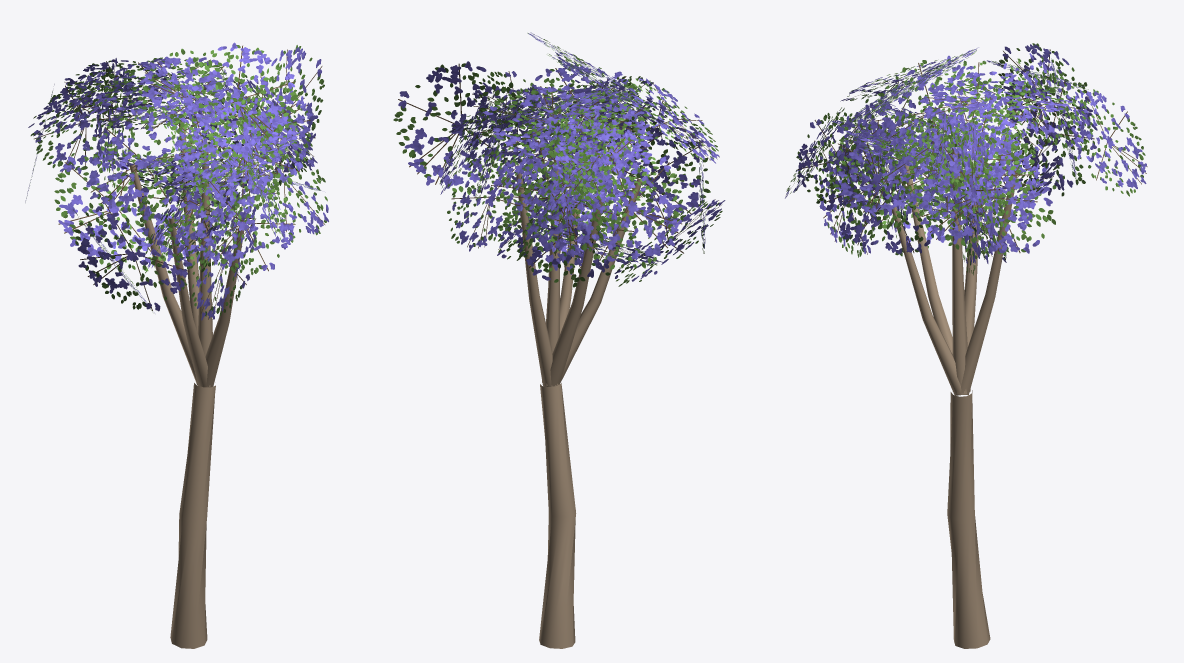
Rendered from jacaranda-cuspidifolia.glb.
3 views of the same model, side by side, from view 1: azimuth 30°, elevation 25°; view 2: azimuth 150°, elevation 25°; view 3: azimuth 270°, elevation 25° (orthographic).
Visible parts, largest first — view 1: folhas, tronco; view 2: folhas, tronco; view 3: folhas, tronco.
Part boxes in pixels (x1,y1,x2,y2): folhas: (25,42,328,320); tronco: (129,120,245,648); folhas: (393,32,725,287); tronco: (515,143,641,648); folhas: (785,43,1147,275); tronco: (891,146,1018,648).
Size of the model in its own units: 5.64 by 10 by 6.
Materials: 2 (1 with a texture image).
